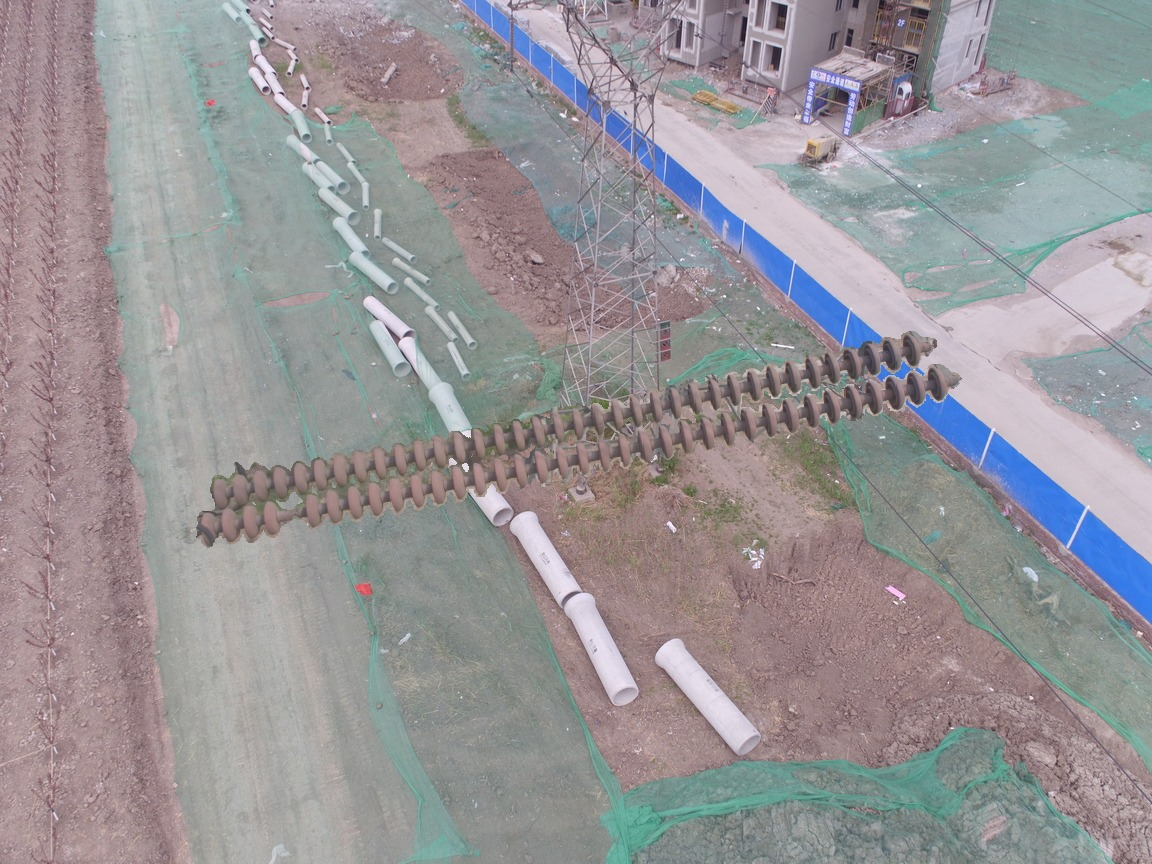defect: (255, 490, 324, 540)
